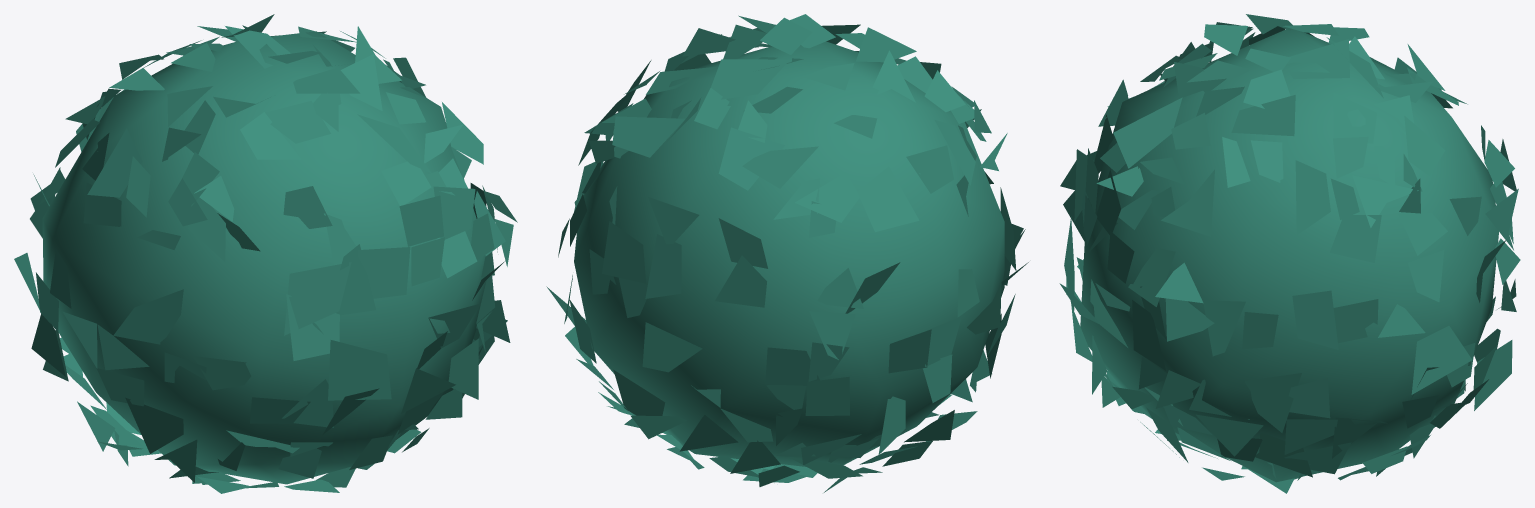
File: buisson1.fbx
3 renders of one model, left to right at view 1: azimuth 30°, elevation 25°; view 2: azimuth 150°, elevation 25°; view 3: azimuth 270°, elevation 25°, orthographic. The views are drawn at different scales.
Visible parts, largest first — view 1: Buisson_1; view 2: Buisson_1; view 3: Buisson_1.
Part boxes in pixels (x1=…): Buisson_1: x1=14, y1=14, x2=517, y2=493; Buisson_1: x1=546, y1=14, x2=1028, y2=492; Buisson_1: x1=1059, y1=14, x2=1520, y2=493.
Size of the model in its own units: 1.79 by 1.83 by 1.81.
